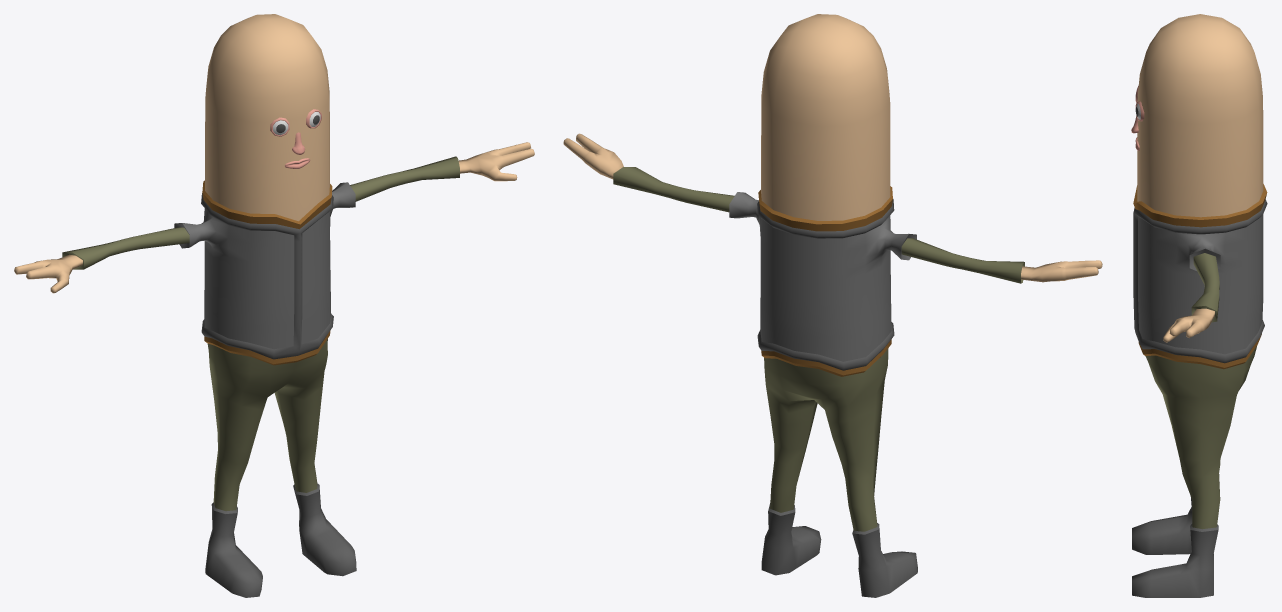
Rendered from SoldierNew.fbx.
The picture shows the model from 3 angles, left to right: view 1: azimuth 30°, elevation 25°; view 2: azimuth 150°, elevation 25°; view 3: azimuth 270°, elevation 25°; orthographic projection. The views are drawn at different scales.
Visible parts, largest first — view 1: SoldierBody; view 2: SoldierBody; view 3: SoldierBody.
Part boxes in pixels (<box>): SoldierBody: <box>14,14,534,597</box>; SoldierBody: <box>563,14,1102,597</box>; SoldierBody: <box>1131,14,1267,597</box>.
Bounding box in the file's own units: 125 × 125 × 28.04.
